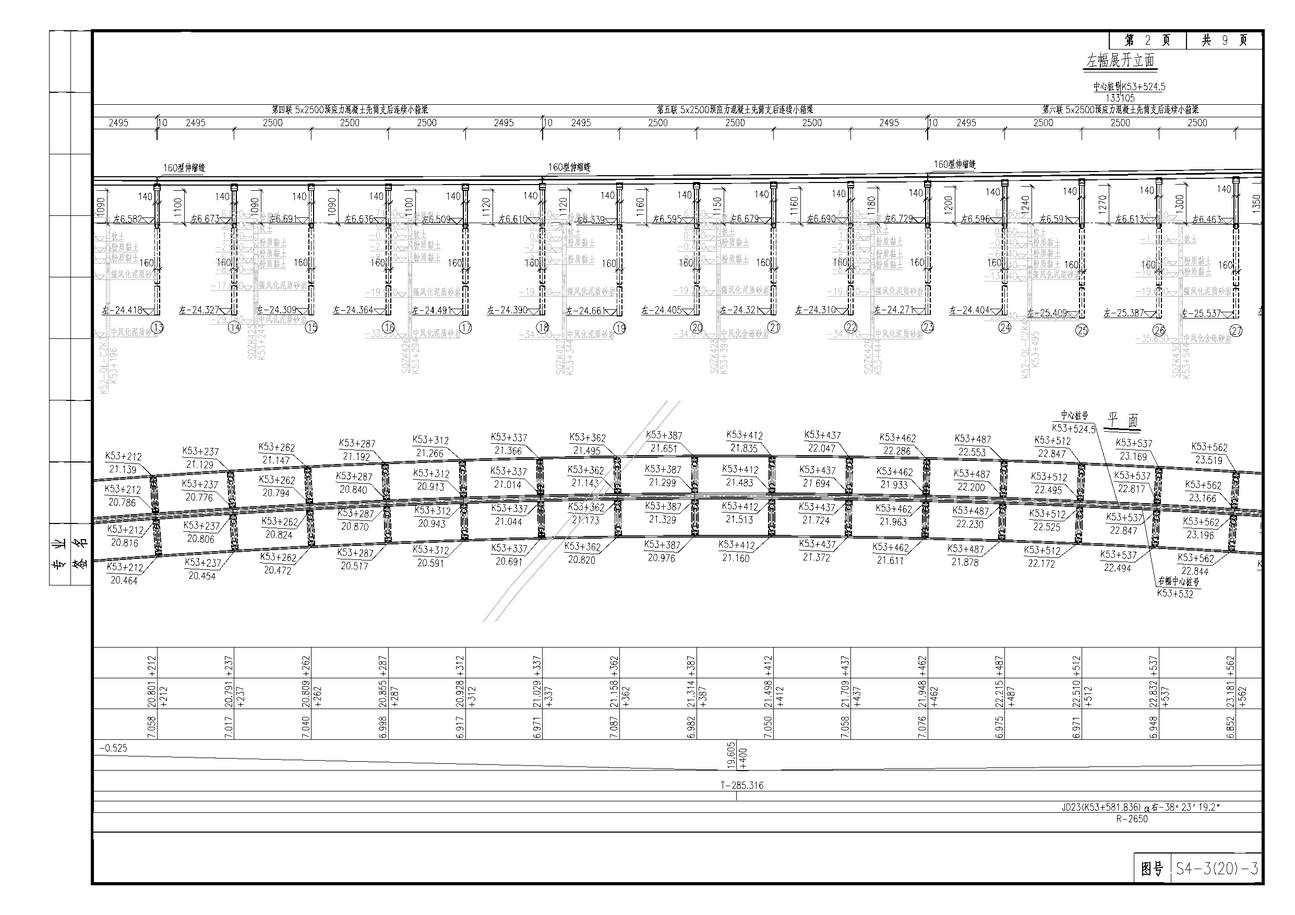A: (90, 50, 1269, 361)
